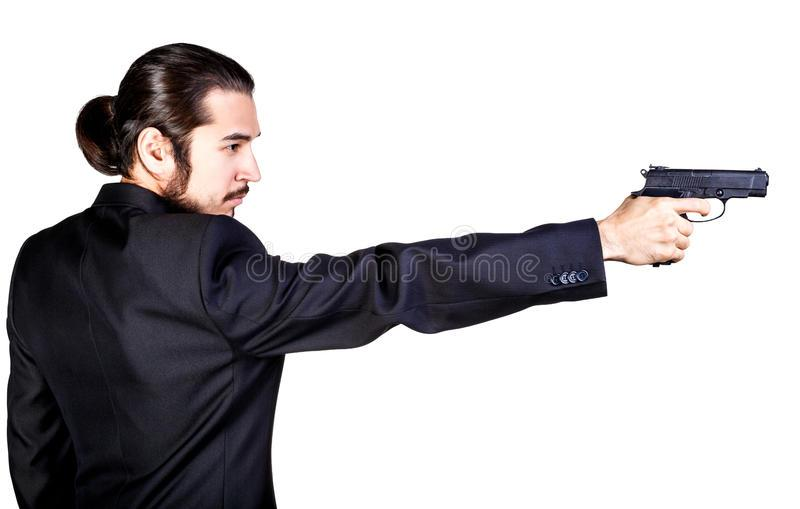criminal: (7, 39, 773, 509)
weapon: (630, 159, 773, 272)
